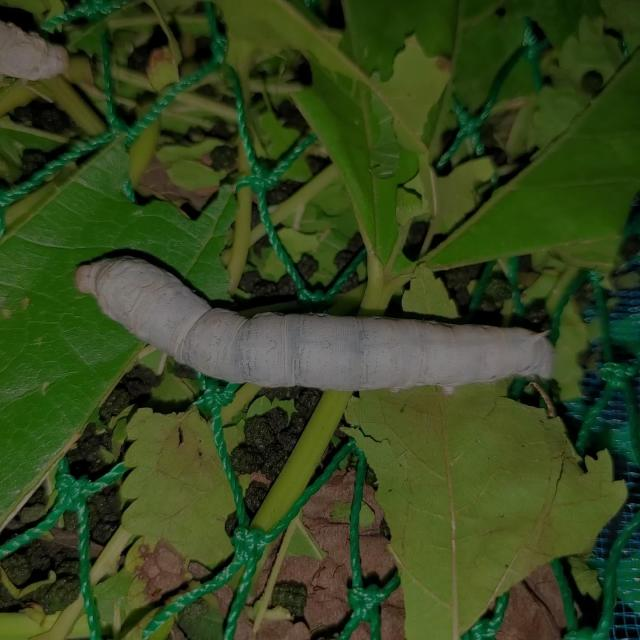Healthy: (51, 224, 579, 452)
